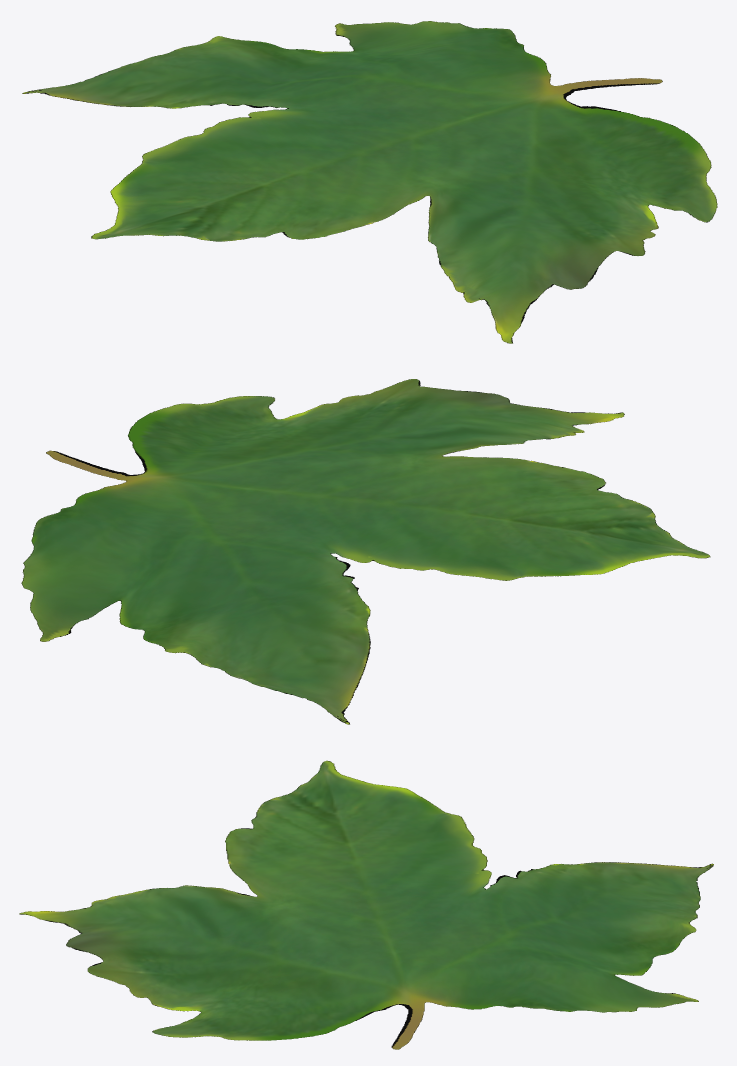
Rendered from FivePointLeaf.fbx.
3 renders of one model, top to bottom at view 1: azimuth 30°, elevation 25°; view 2: azimuth 150°, elevation 25°; view 3: azimuth 270°, elevation 25°, orthographic. The views are drawn at different scales.
Visible parts, largest first — view 1: FivePointLeaff; view 2: FivePointLeaff; view 3: FivePointLeaff.
Boxes of the visible parts, <box> form: FivePointLeaff: <box>22,21,717,343</box>; FivePointLeaff: <box>21,379,710,724</box>; FivePointLeaff: <box>19,760,713,1049</box>.
Size of the model in its own units: 0.8553 by 0.0594 by 0.9305.
